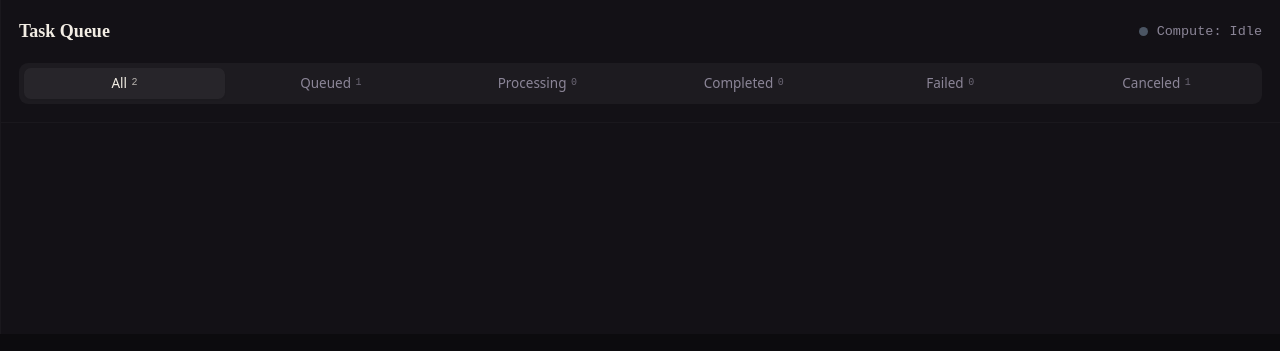
VideoQueue terminal states › keeps canceled tasks separate from failures and active loading states
Click the button "Canceled 1".
click(1157, 83)  # box top-left (1056, 68), bottom-right (1258, 99)
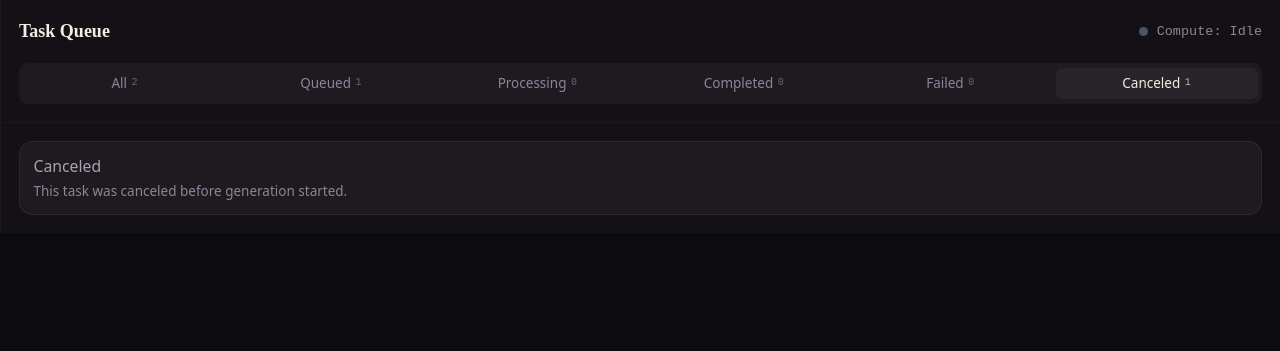
Expected: the text "This task was canceled before generation started." is shown, top-left (34, 182), bottom-right (347, 200)
